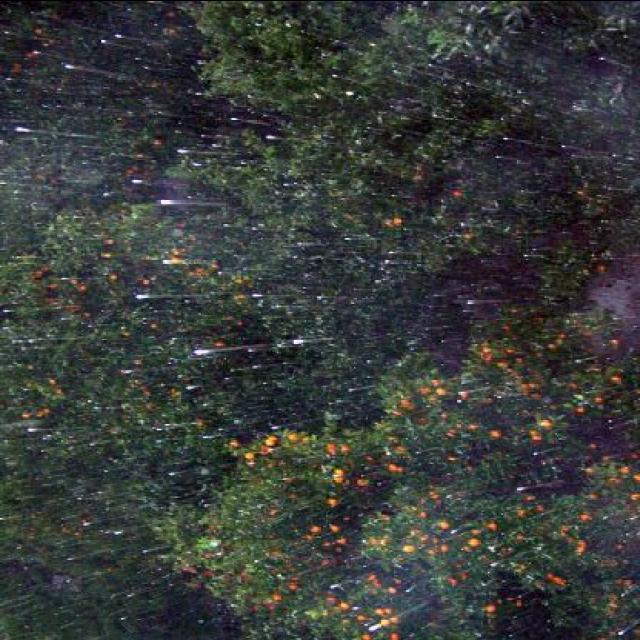Orange: (538, 418, 554, 428)
